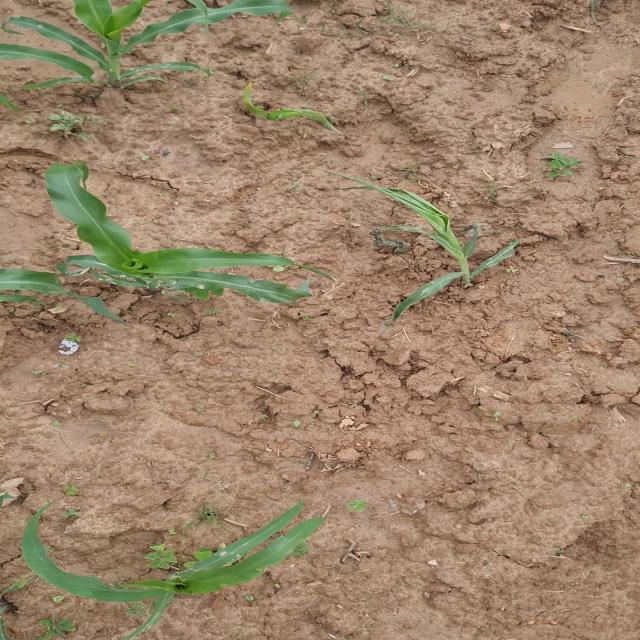maize: (21, 162, 316, 324), (0, 495, 317, 619), (322, 167, 536, 313), (0, 0, 212, 108), (0, 258, 107, 329), (221, 83, 330, 142)
weed: (541, 148, 585, 174), (336, 495, 372, 513)
